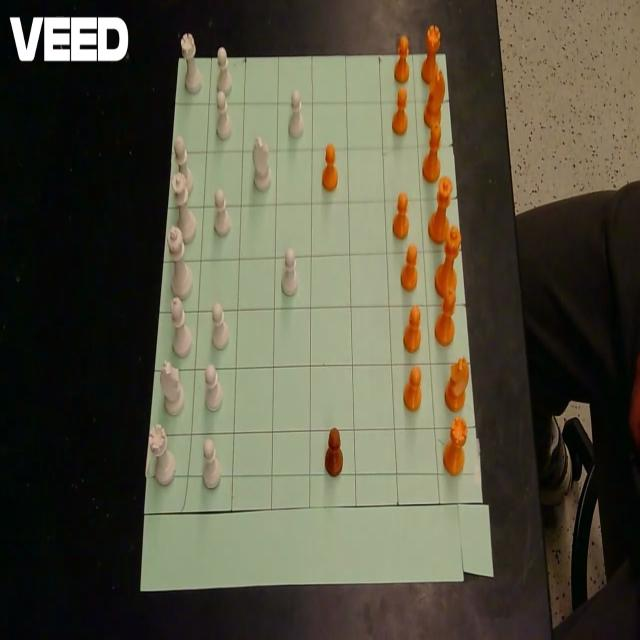orange_bishop: (434, 289, 456, 345), (422, 122, 442, 182), (421, 24, 440, 85)
orange_king: (434, 225, 460, 299)
orange_knight: (445, 355, 469, 412), (424, 84, 442, 133), (427, 60, 444, 109)
orange_pawn: (325, 427, 343, 477), (392, 191, 410, 239), (403, 304, 421, 352), (404, 364, 422, 410), (401, 243, 418, 290), (394, 34, 410, 83), (392, 86, 408, 134), (323, 142, 338, 190), (437, 176, 453, 207), (409, 306, 421, 326), (397, 35, 409, 55), (410, 365, 421, 386), (407, 244, 418, 264), (325, 143, 335, 164), (397, 87, 407, 106)
orange_queen: (428, 176, 452, 245)
orange_rook: (443, 418, 467, 476)
white_bishop: (170, 300, 192, 358), (174, 135, 194, 196), (150, 424, 166, 454), (170, 297, 185, 327), (180, 32, 196, 59), (203, 446, 215, 466), (458, 357, 467, 373), (162, 360, 171, 374), (170, 227, 177, 240), (181, 34, 188, 47), (256, 136, 262, 148), (150, 432, 154, 442)
white_king: (168, 227, 192, 295)
white_knight: (160, 360, 184, 416), (253, 135, 271, 190)
white_pawn: (202, 437, 221, 490), (211, 301, 230, 351), (204, 364, 223, 414), (214, 188, 231, 237), (216, 45, 232, 95), (216, 89, 232, 139), (288, 89, 304, 138), (282, 246, 298, 295), (204, 363, 217, 387), (212, 301, 224, 325), (214, 187, 225, 210), (217, 46, 227, 68), (291, 89, 301, 110)
white_queen: (173, 175, 196, 244)
white_rook: (149, 423, 175, 486), (182, 32, 202, 94)
